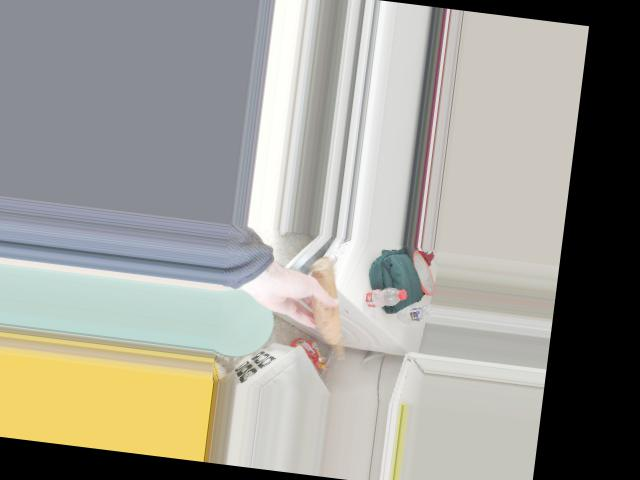sweet_potato: (297, 260, 359, 357)
